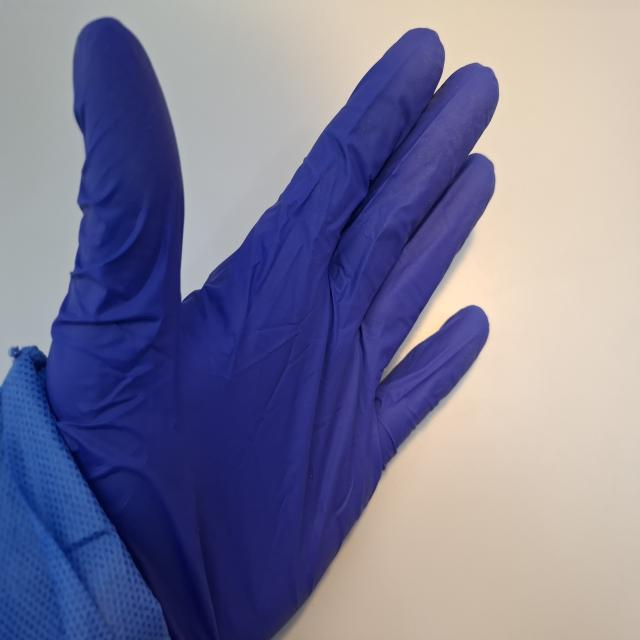glove_on: (40, 11, 503, 640)
